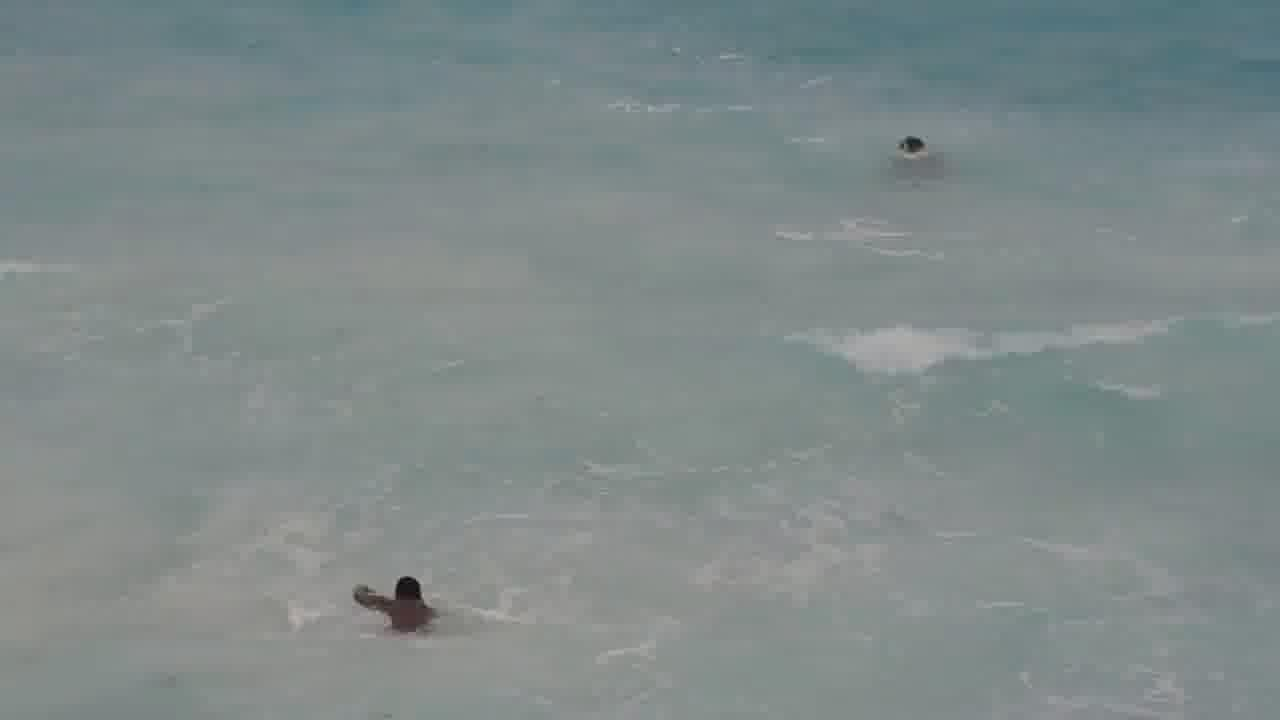human: (346, 560, 450, 642), (881, 123, 947, 165)
